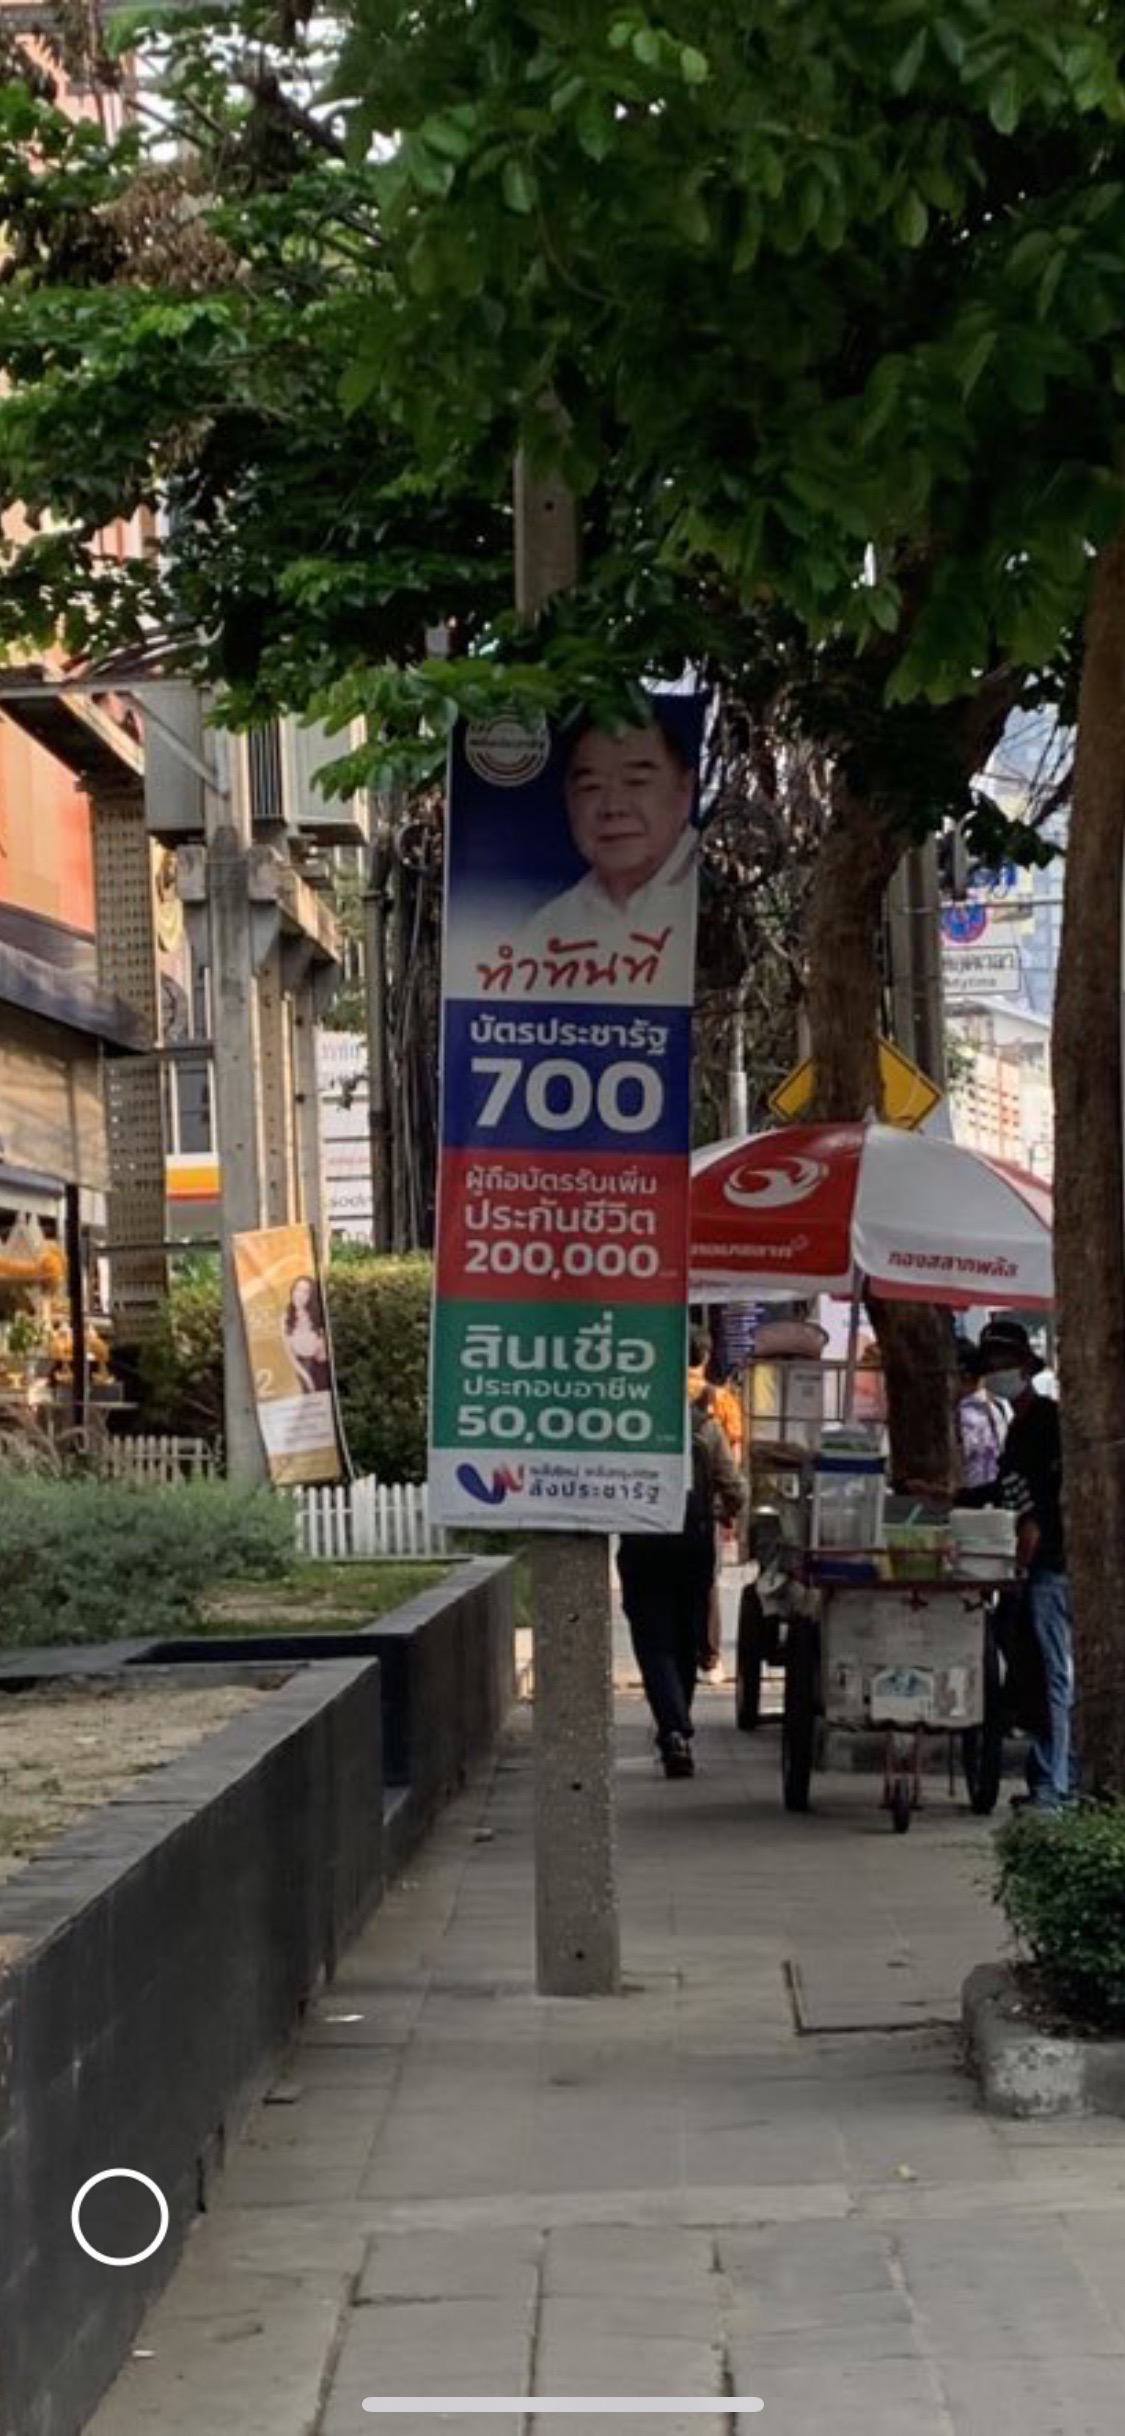Banner: (434, 663, 733, 1554)
